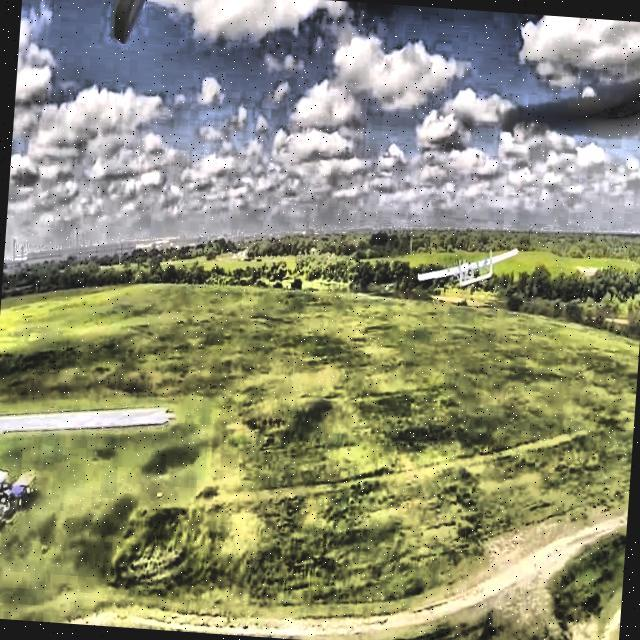iha: (436, 234, 494, 290)
